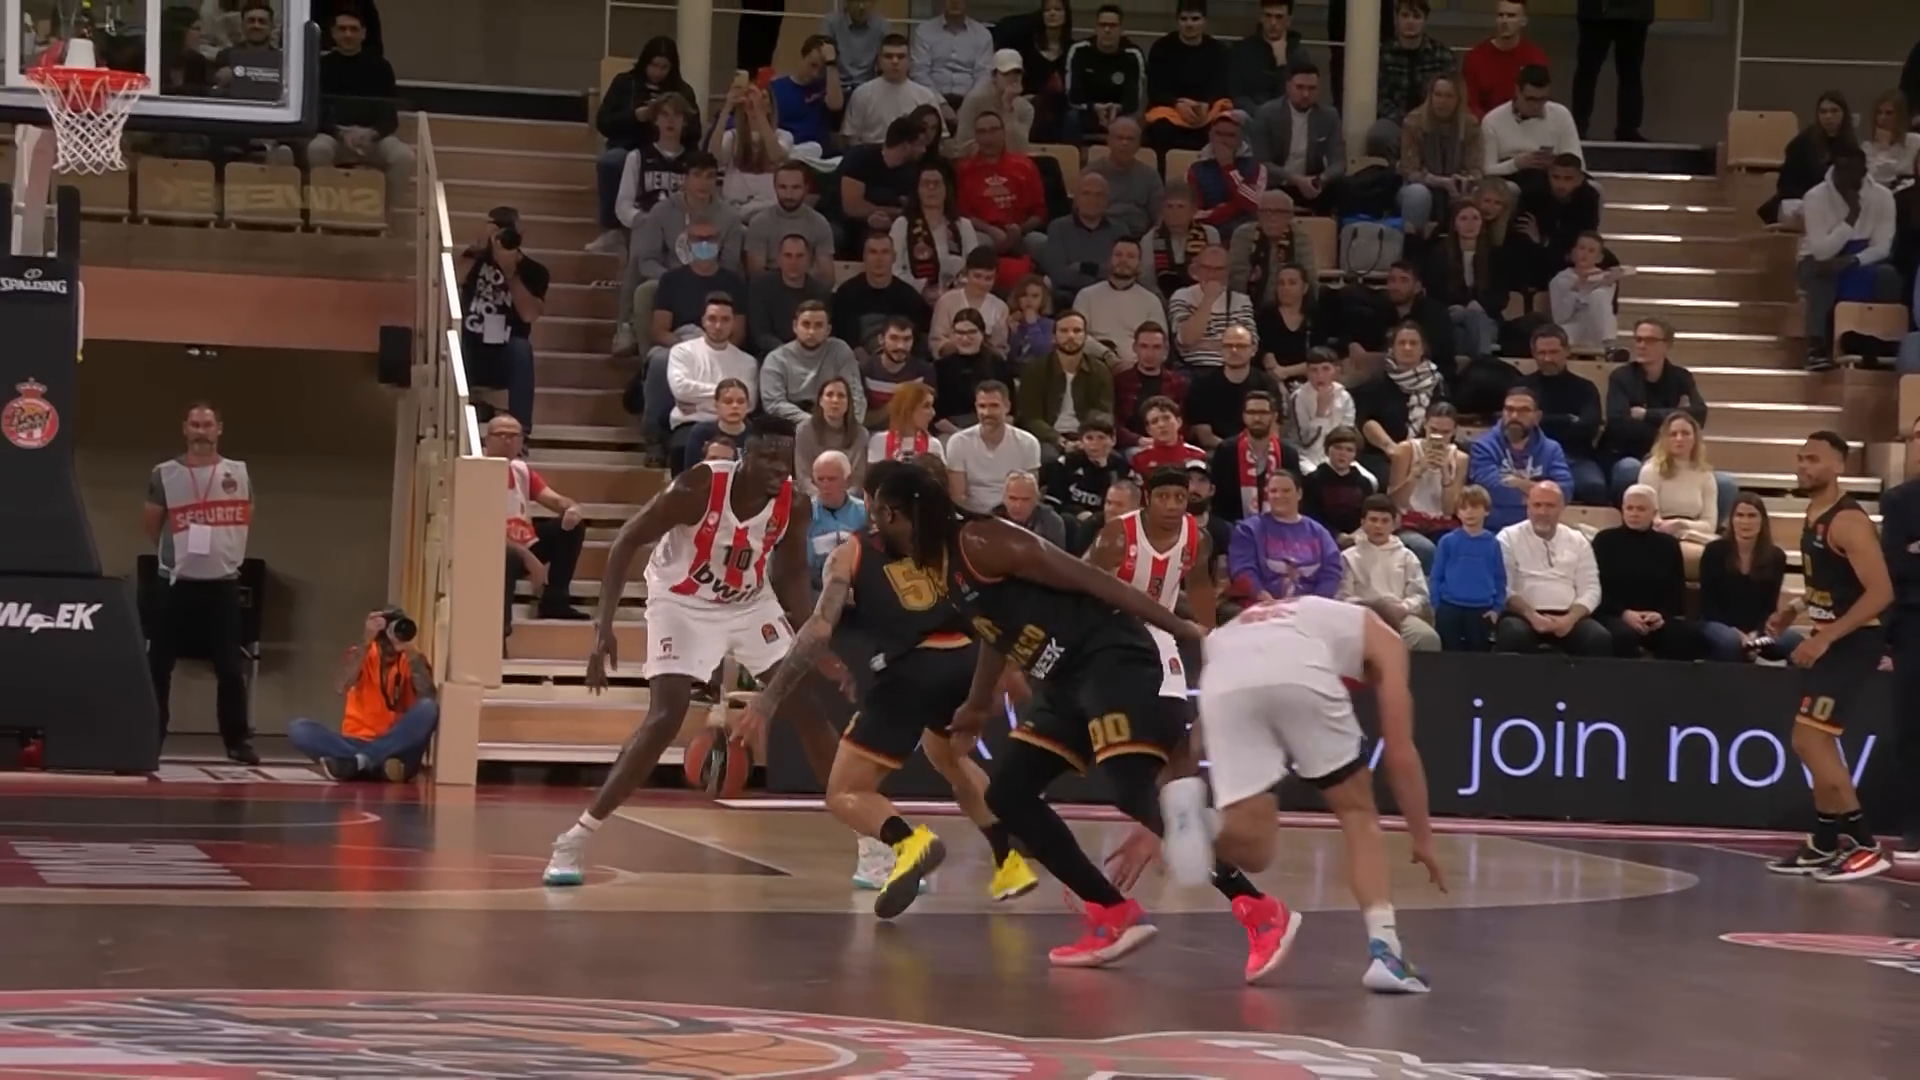ball: (678, 721, 761, 804)
net: (17, 61, 160, 179)
